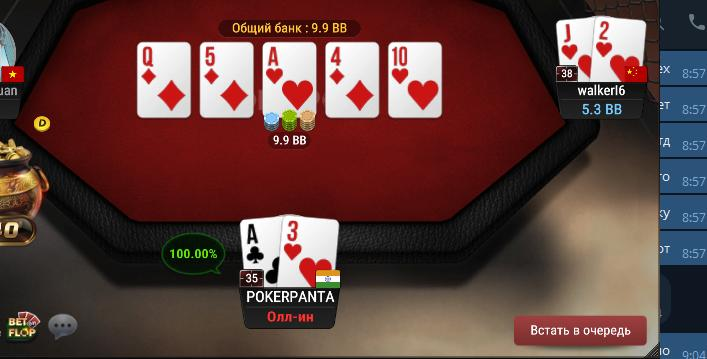10h: (389, 43, 442, 116)
2h: (592, 15, 648, 81)
3h: (280, 216, 339, 287)
4d: (326, 42, 378, 116)
5d: (201, 44, 254, 116)
Ac: (238, 214, 280, 288)
Ah: (264, 42, 316, 113)
Jh: (554, 18, 592, 82)
Qd: (138, 43, 190, 117)
